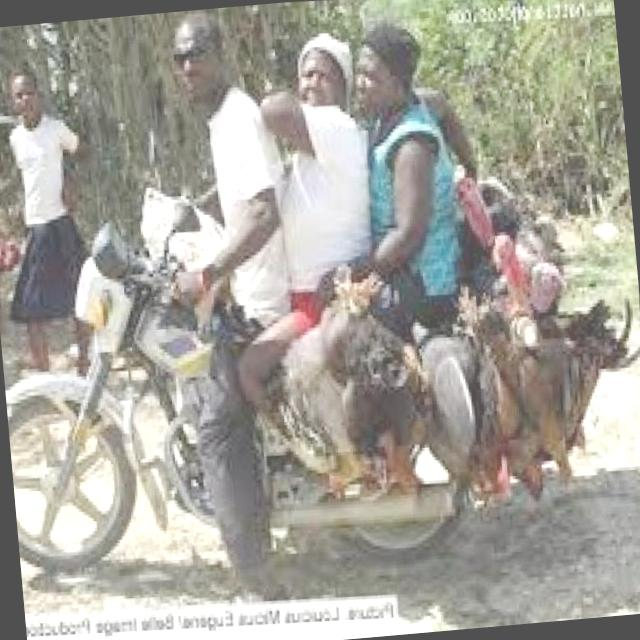motorcycle: (0, 180, 533, 600)
person: (154, 8, 312, 464), (253, 16, 406, 386), (331, 10, 480, 388)
rider_region: (0, 0, 521, 592)
